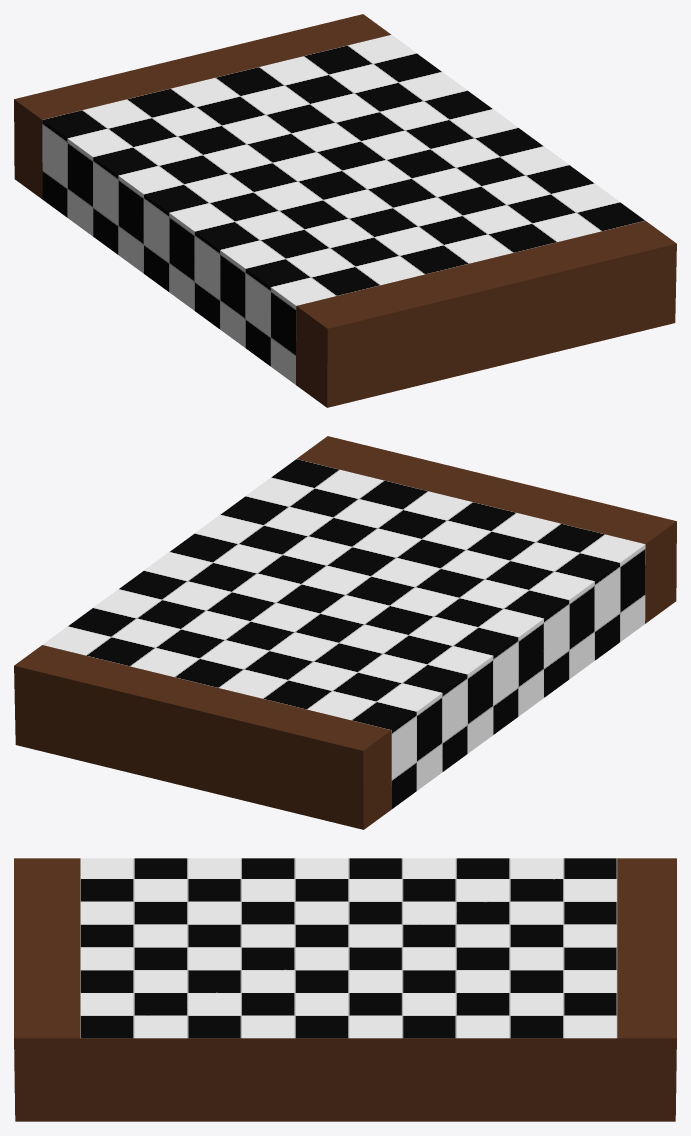
The model's file is TavlaClose.fbx.
The picture shows the model from 3 angles, top to bottom: view 1: azimuth 30°, elevation 25°; view 2: azimuth 150°, elevation 25°; view 3: azimuth 270°, elevation 25°; orthographic projection. The views are drawn at different scales.
Visible parts, largest first — view 1: TavlaClose; view 2: TavlaClose; view 3: TavlaClose.
Boxes of the visible parts, bbox=[...] form: TavlaClose: bbox=[14, 14, 676, 407]; TavlaClose: bbox=[14, 436, 676, 829]; TavlaClose: bbox=[14, 858, 676, 1121].
Bounding box in the file's own units: 123 × 26.67 × 191.
2 materials, 1 textured.
